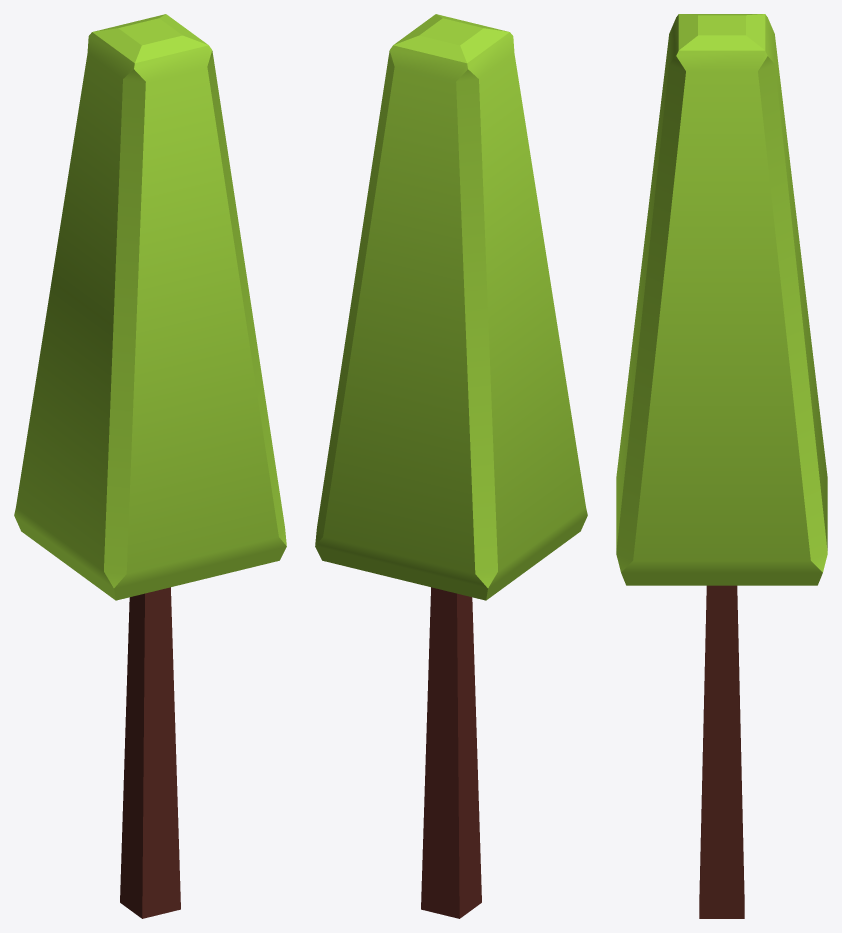
The model's file is tree1.fbx.
The picture shows the model from 3 angles, left to right: view 1: azimuth 30°, elevation 25°; view 2: azimuth 150°, elevation 25°; view 3: azimuth 270°, elevation 25°; orthographic projection.
Visible parts, largest first — view 1: Cube.004; view 2: Cube.004; view 3: Cube.004.
Boxes of the visible parts, left/top/right/bottom form: Cube.004: left=14, top=14, right=286, bottom=918; Cube.004: left=315, top=14, right=587, bottom=918; Cube.004: left=616, top=14, right=827, bottom=918.
Size of the model in its own units: 147 by 677 by 147.
